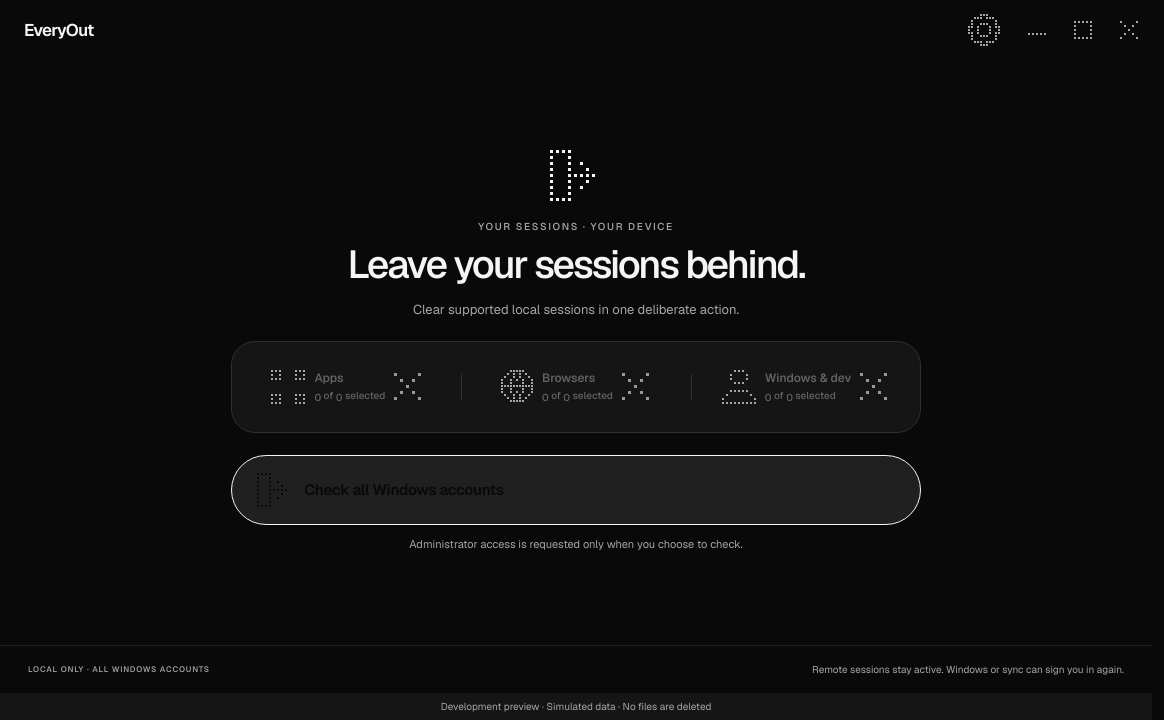
Test: keeps a remembered all-accounts mode inactive until an explicit action
This screenshot has width=1164, height=720.
Click the button "Check all Windows accounts" at (274, 490), box [231,455,921,525]
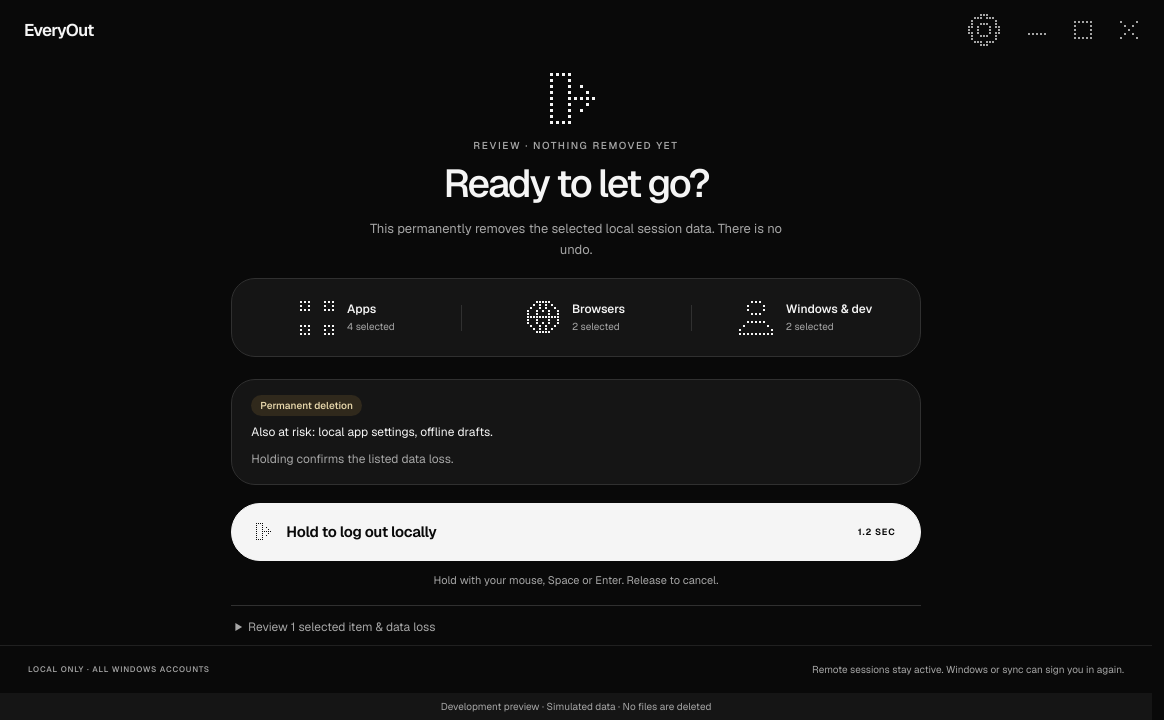
Now the button "Hold to log out locally 1.2 SEC" is shown, box [231,503,921,561]
